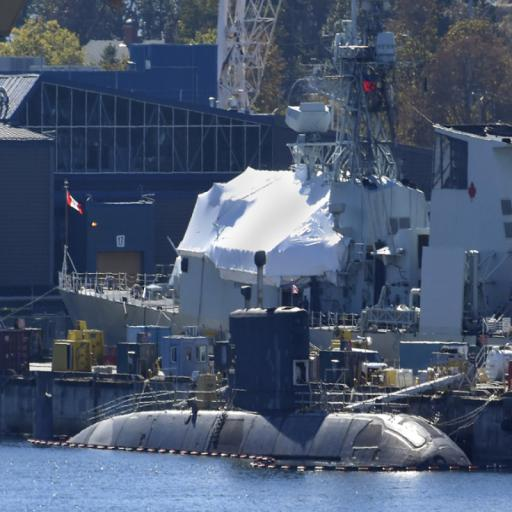submarine: (66, 254, 477, 468)
